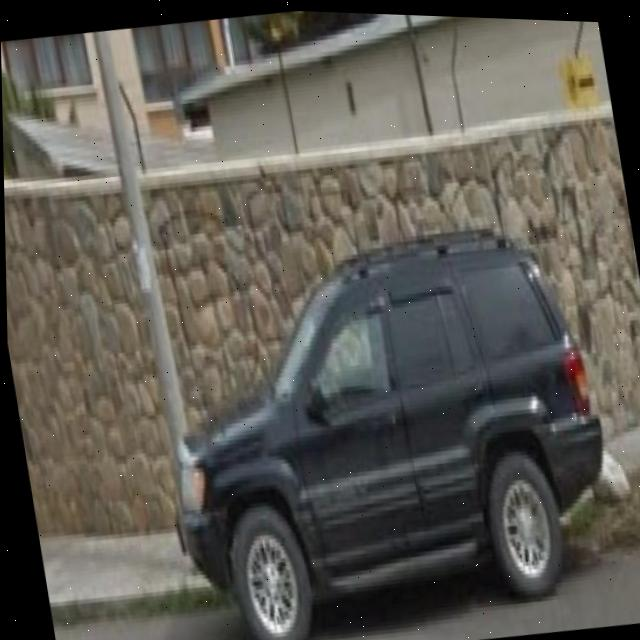vehicle: (133, 187, 636, 640)
